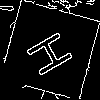H: (24, 24, 83, 79)
